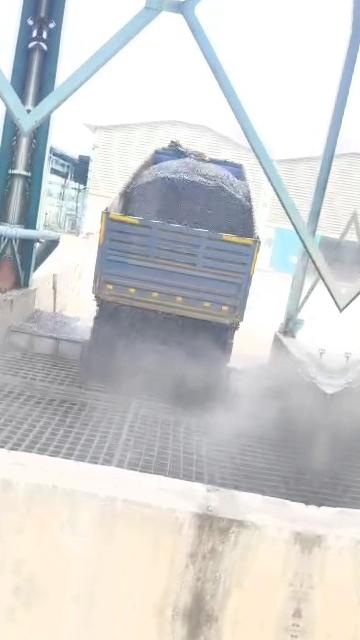gravel: (81, 305, 226, 394), (119, 156, 252, 236), (10, 309, 90, 342)
